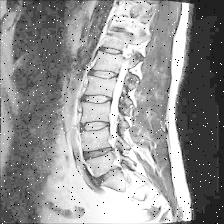disc: (97, 43, 128, 61)
hdisc: (90, 164, 126, 188), (86, 64, 122, 86), (82, 142, 118, 162), (82, 90, 116, 110), (80, 117, 114, 136)
